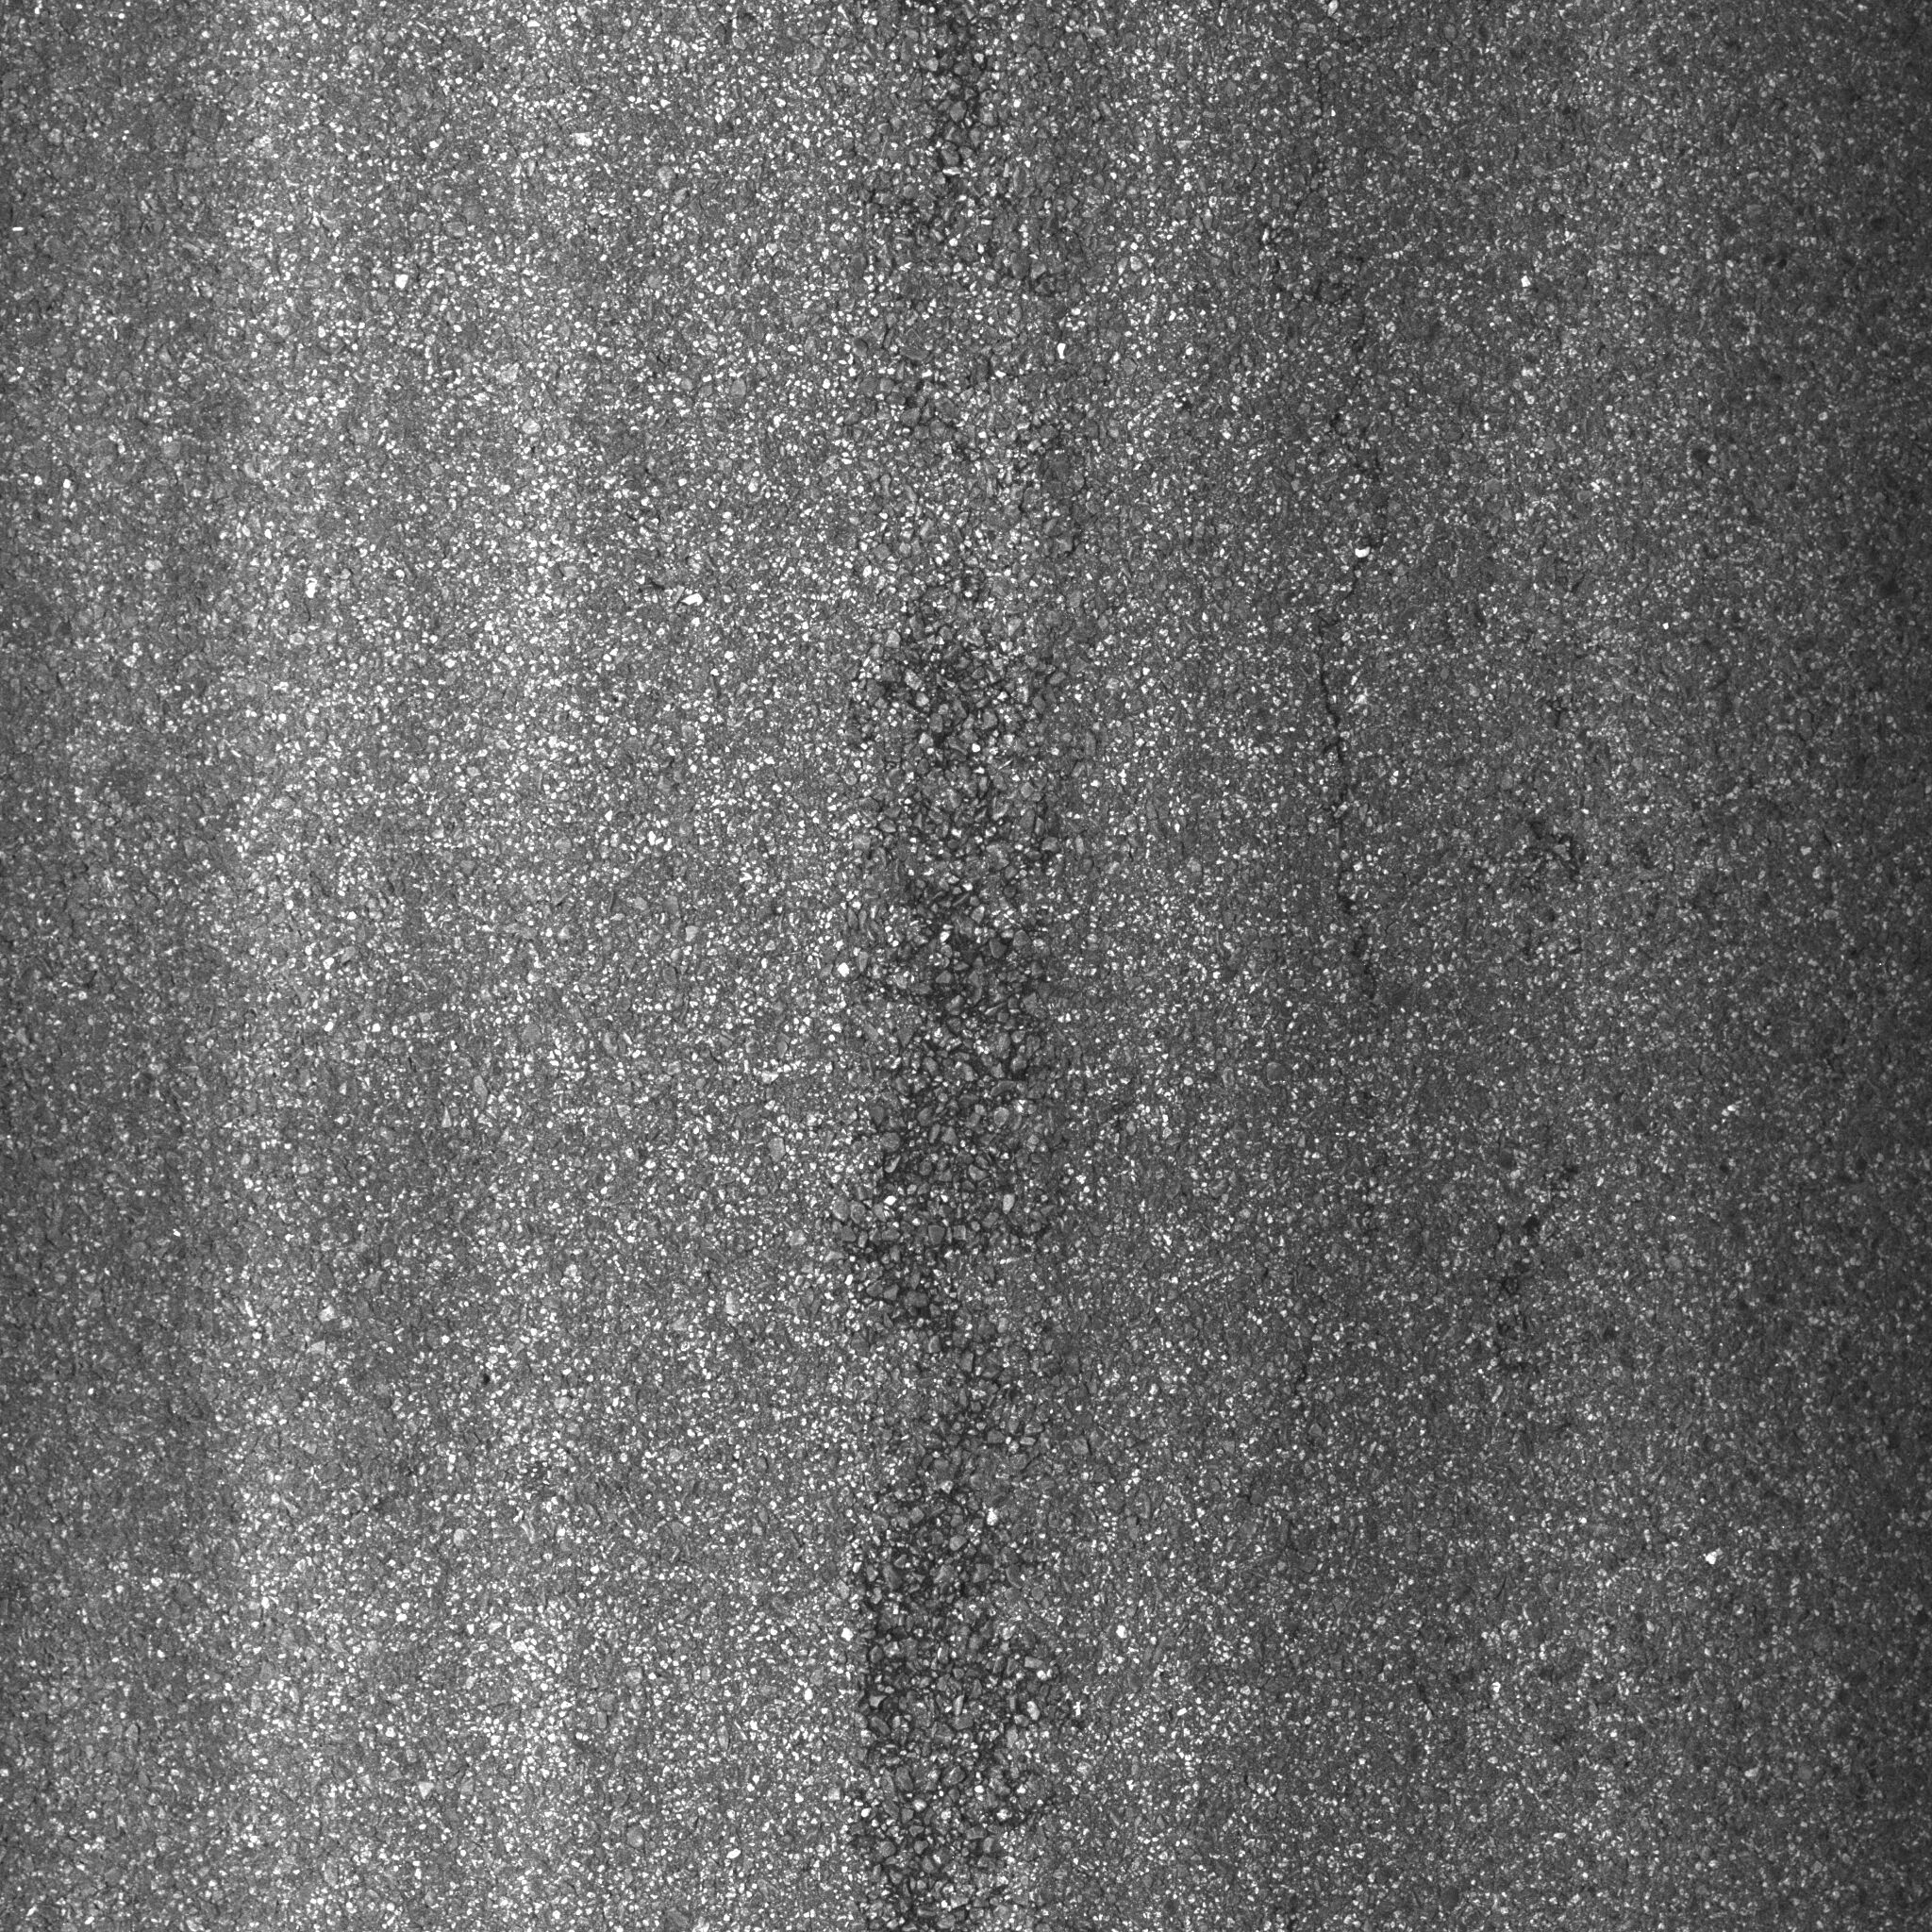longitudinal: (847, 487, 1037, 1927), (1304, 303, 1422, 1033)
